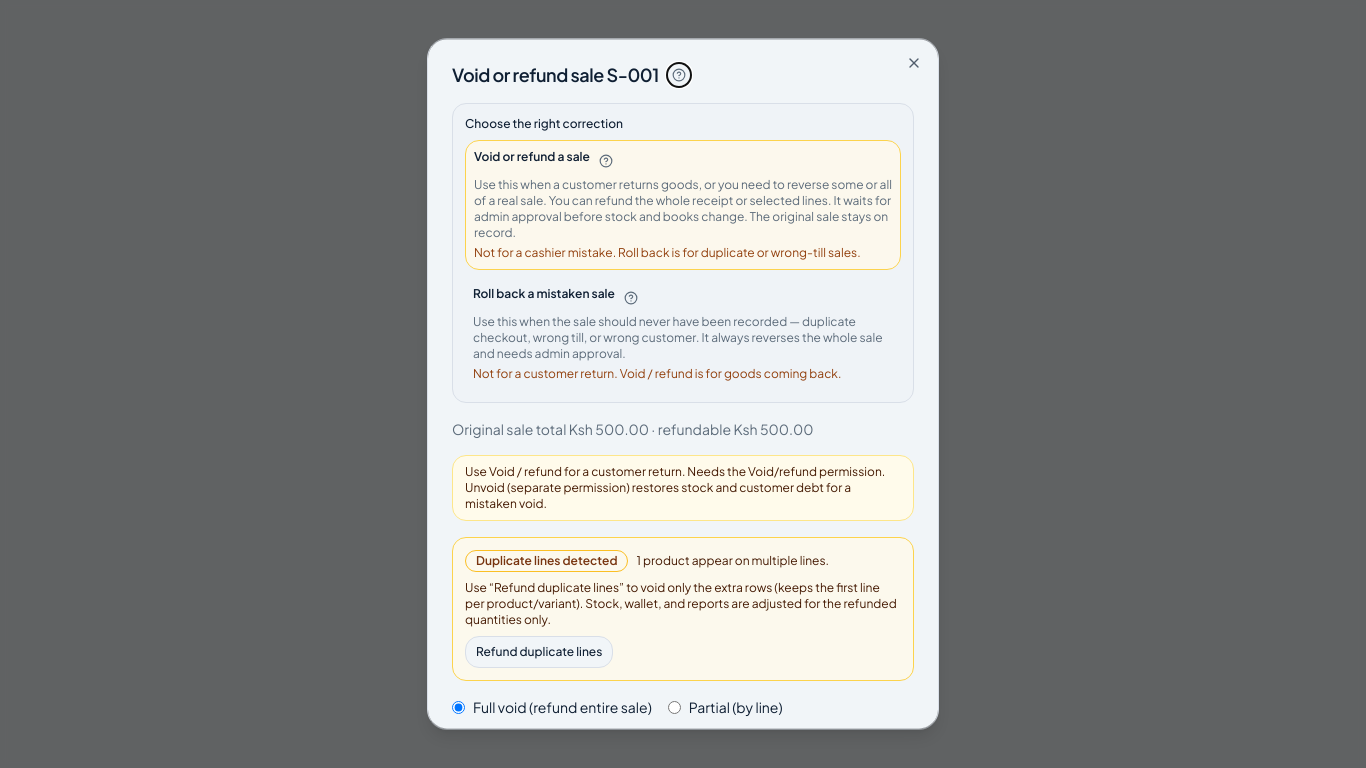
RefundSaleDialog › shows variant labels on refund lines
The width and height of the screenshot is (1366, 768).
Step 1. Click the radio button labelled "Partial (by line)" → click(674, 707), box [668, 701, 681, 714]
(page scrolled)
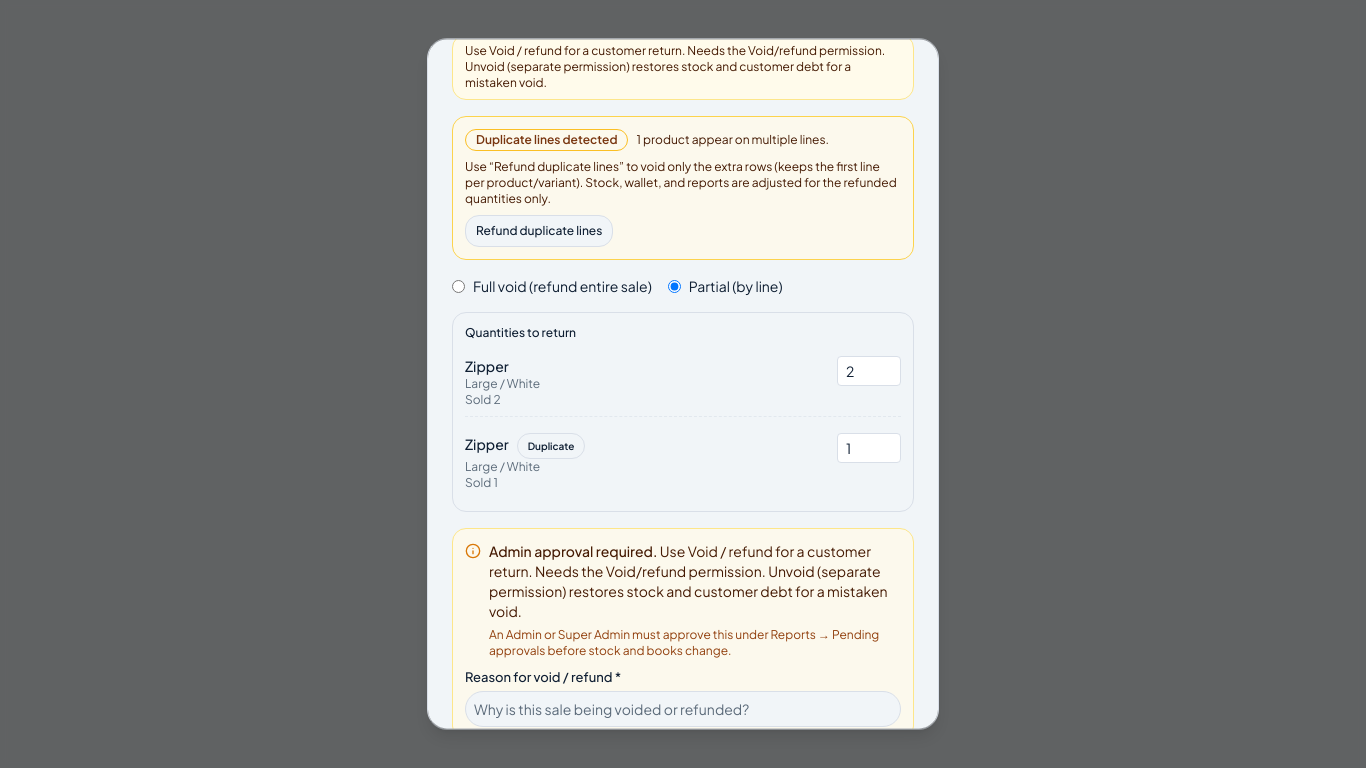
Now the 1st text "Large / White" is shown, box [465, 376, 540, 391]
